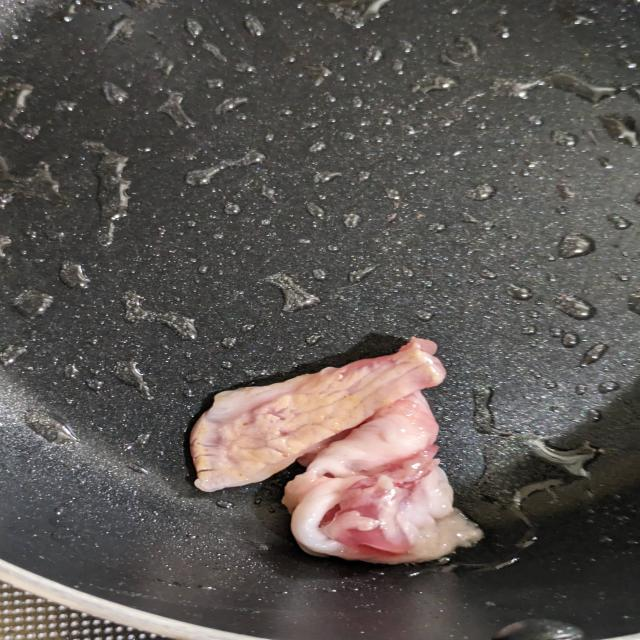NG undercooked pork,: (167, 322, 510, 578)
